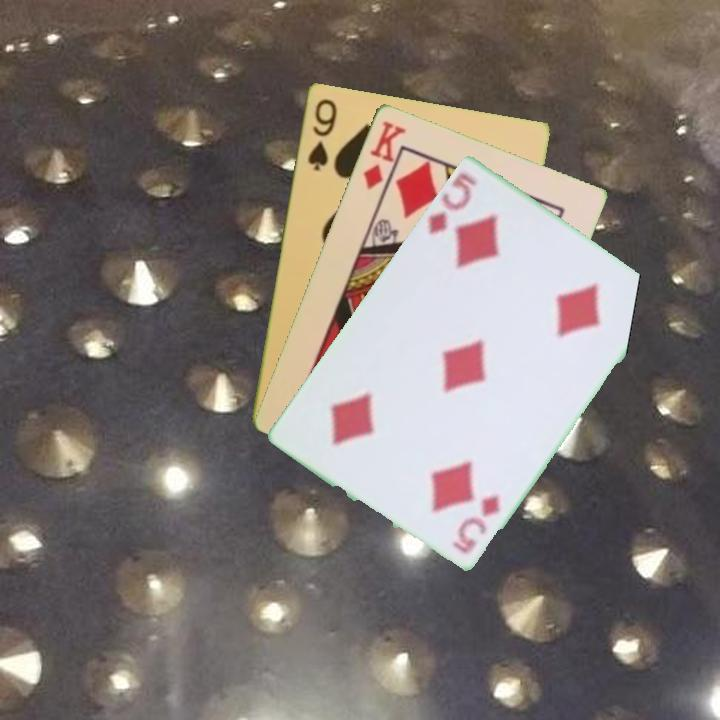5d: (424, 168, 479, 236), (448, 490, 503, 556)
9s: (303, 95, 340, 173)
Kd: (359, 116, 408, 192)
